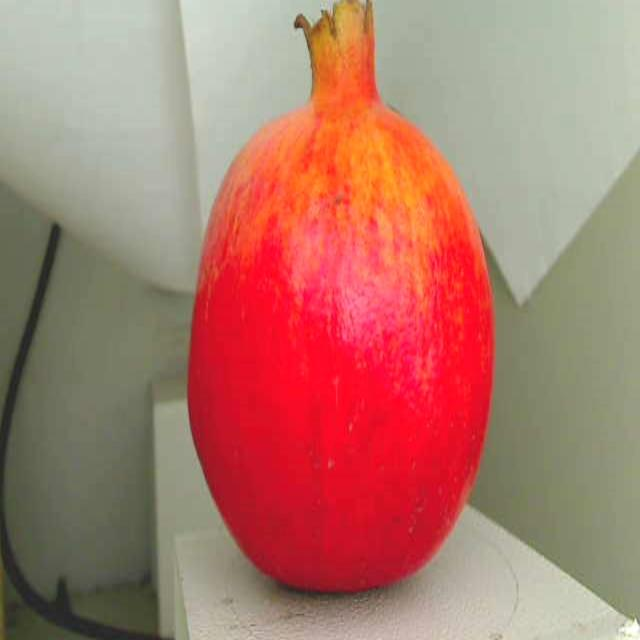pomegranate: (170, 2, 510, 598)
